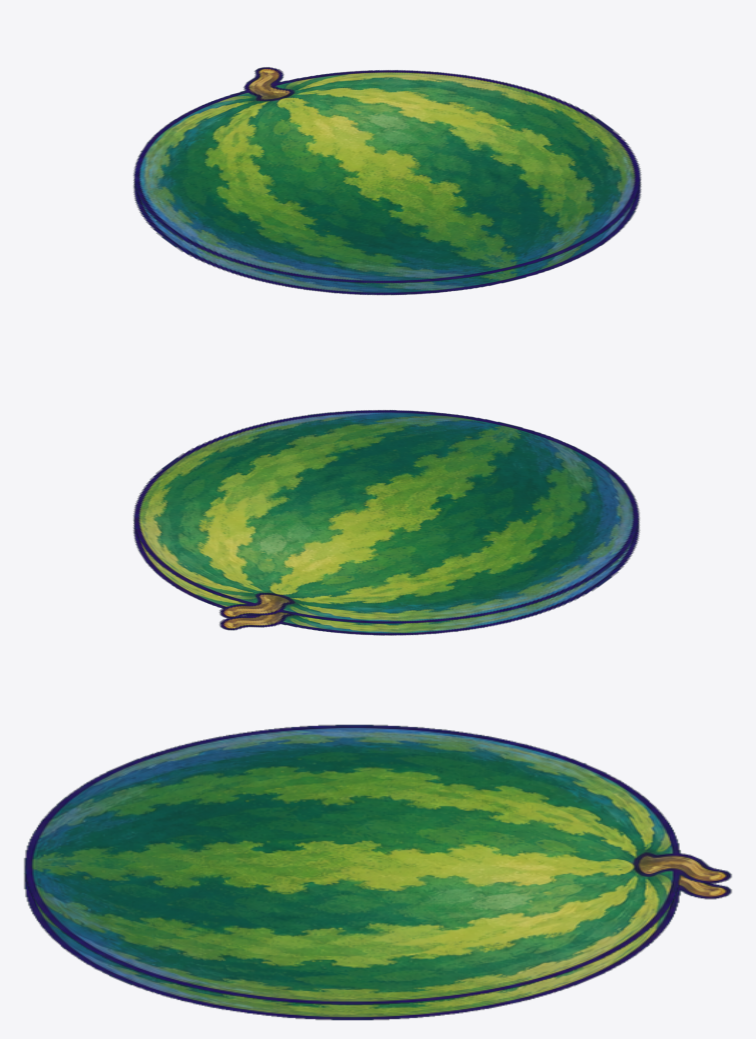
The model's file is fruit_melon.glb.
3 renders of one model, top to bottom at view 1: azimuth 30°, elevation 25°; view 2: azimuth 150°, elevation 25°; view 3: azimuth 270°, elevation 25°, orthographic. The views are drawn at different scales.
Parts seen in each view (by area): view 1: fruit_melon; view 2: fruit_melon; view 3: fruit_melon.
Part boxes in pixels (x1,y1,x2,y2): fruit_melon: (133, 67, 641, 295); fruit_melon: (133, 410, 639, 635); fruit_melon: (24, 724, 731, 1020).
Size of the model in its own units: 2 by 0.05 by 2.13.
Materials: 1 (1 with a texture image).
